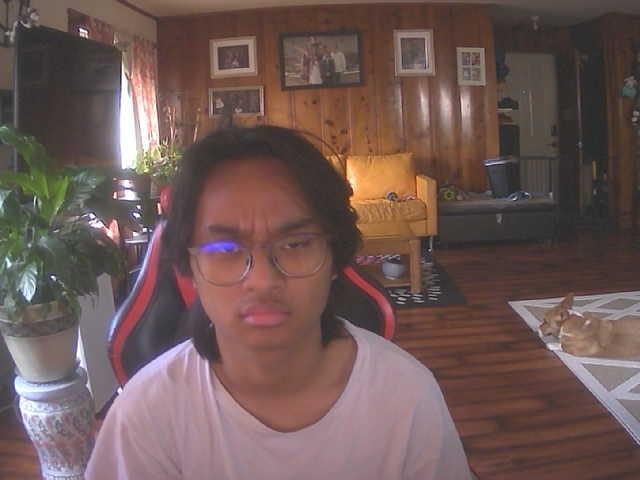anger: (183, 139, 348, 359)
